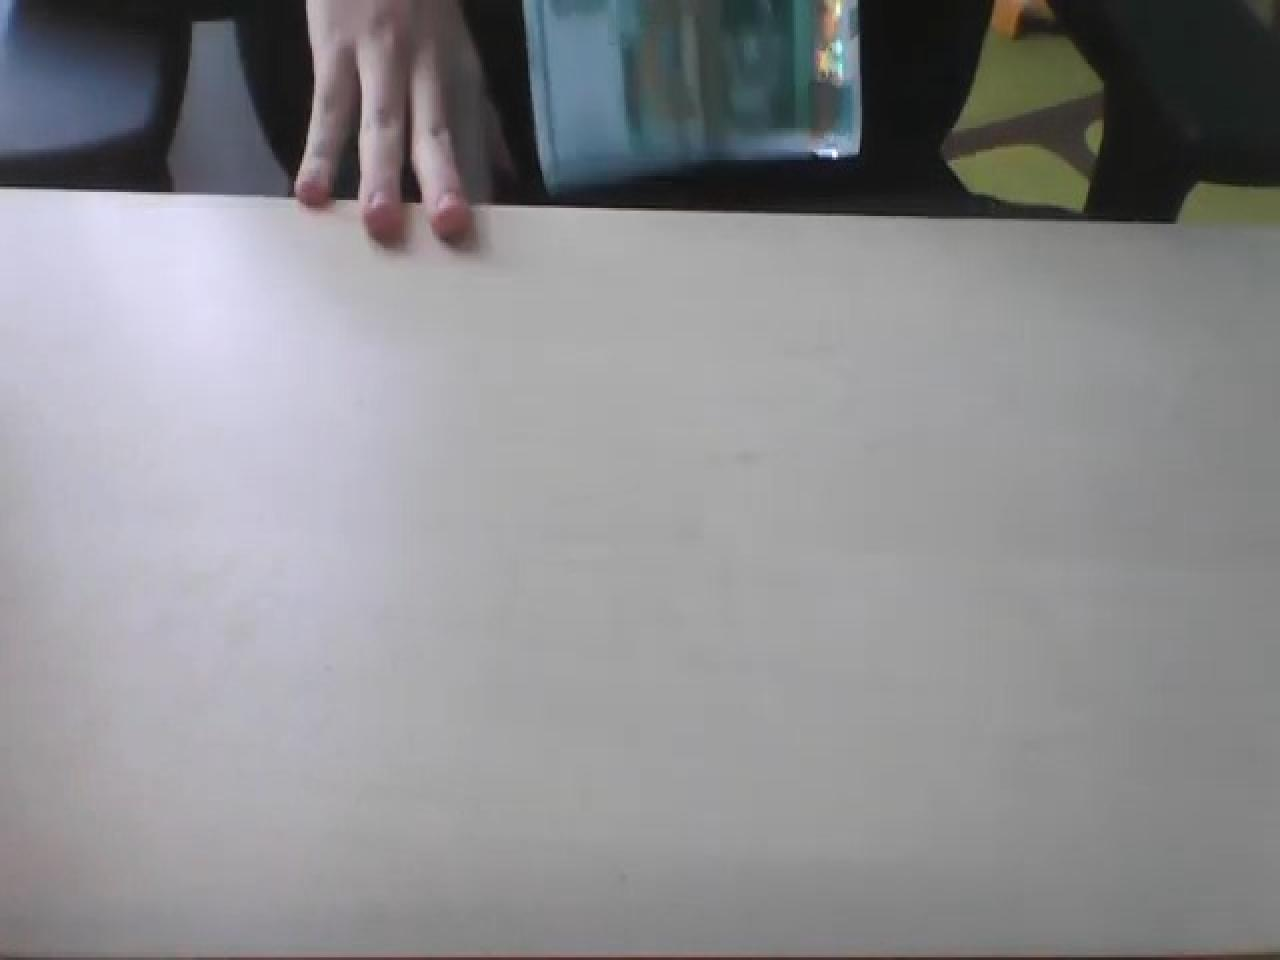100leva: (520, 0, 864, 197)
